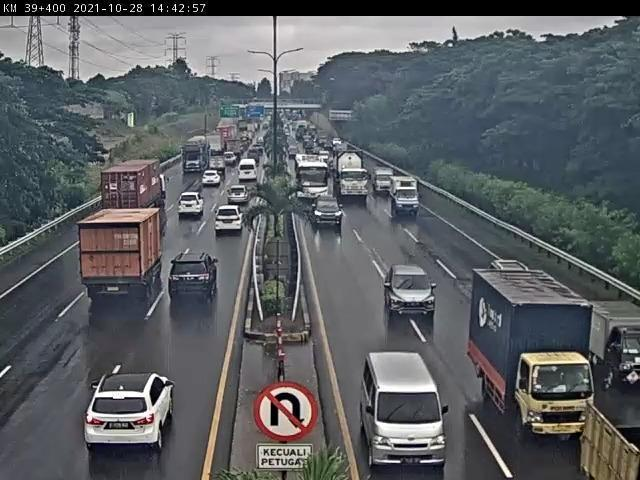bus: (294, 156, 333, 211)
car: (363, 351, 452, 473), (85, 370, 178, 452), (385, 266, 438, 320), (167, 253, 221, 301), (312, 197, 344, 235), (217, 204, 246, 236), (180, 190, 207, 218), (228, 184, 247, 203), (204, 171, 223, 188)
truck: (469, 269, 598, 447), (81, 208, 170, 302), (102, 160, 173, 231), (333, 147, 373, 204), (392, 176, 423, 219), (376, 169, 399, 202)
